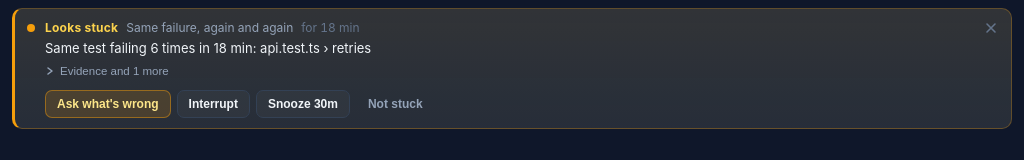
Test: StuckBanner › "Not stuck" tells the daemon and hides the finding at once
Click the button "Not stuck".
click(395, 104)  # box [356,90,435,118]
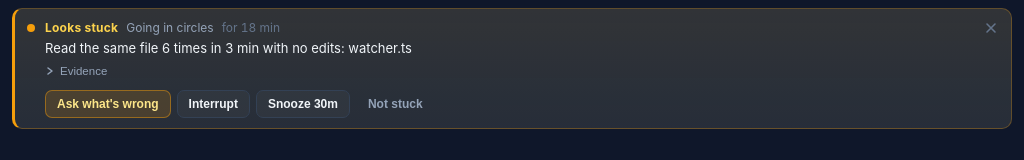
Result: the text "Read the same file 6 times" is shown at [45,40,412,56]
